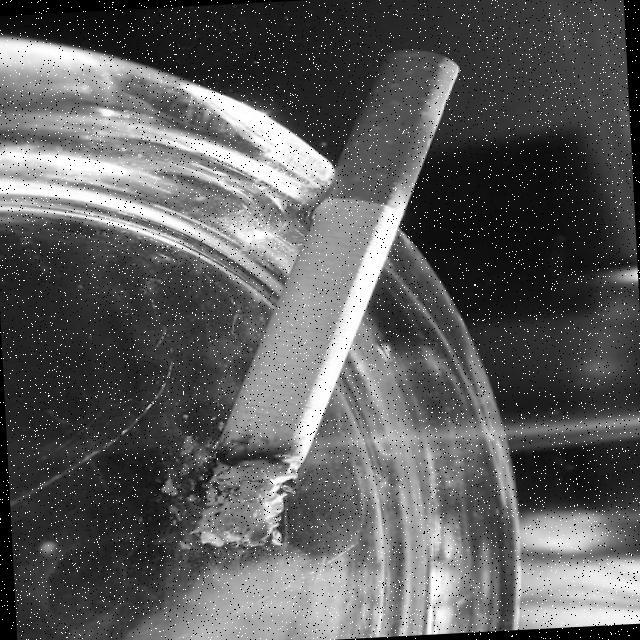cigarette: (148, 44, 506, 562)
